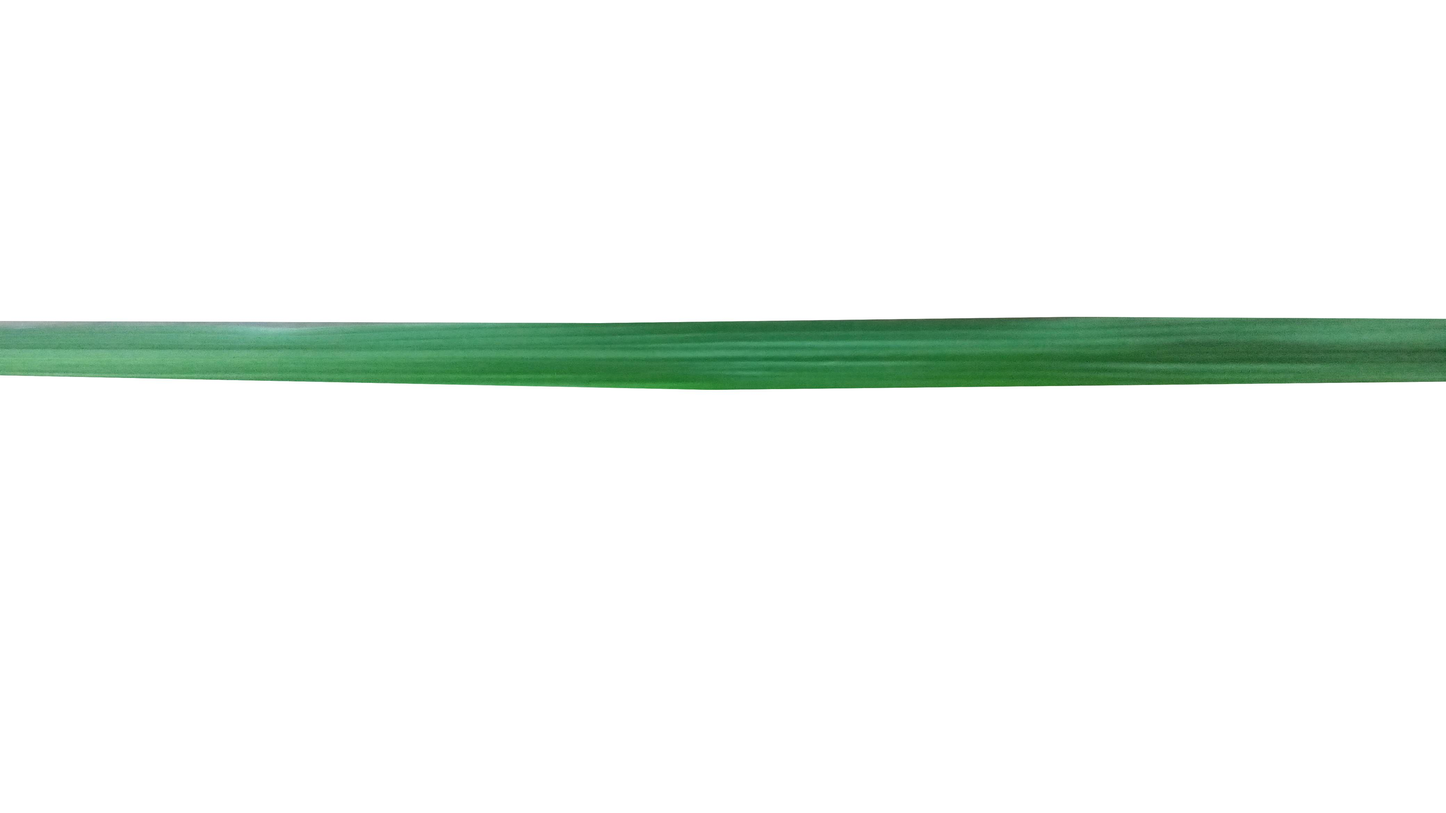Healthy: (7, 321, 1446, 383)
